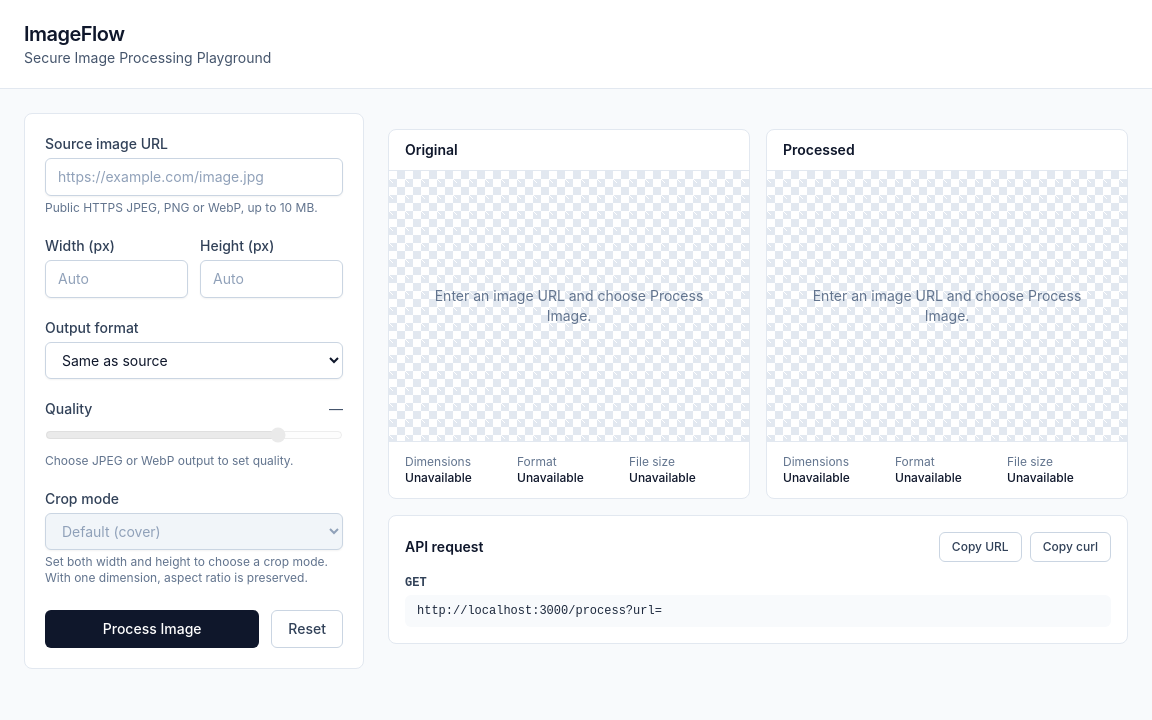
Test: App › requests exactly the displayed URL and shows both images with metadata
The image size is (1152, 720).
In the field labelled "Source image URL": (194, 177) x1=45 y1=158 x2=343 y2=196, type "https://images.example.com/cat.jpg"
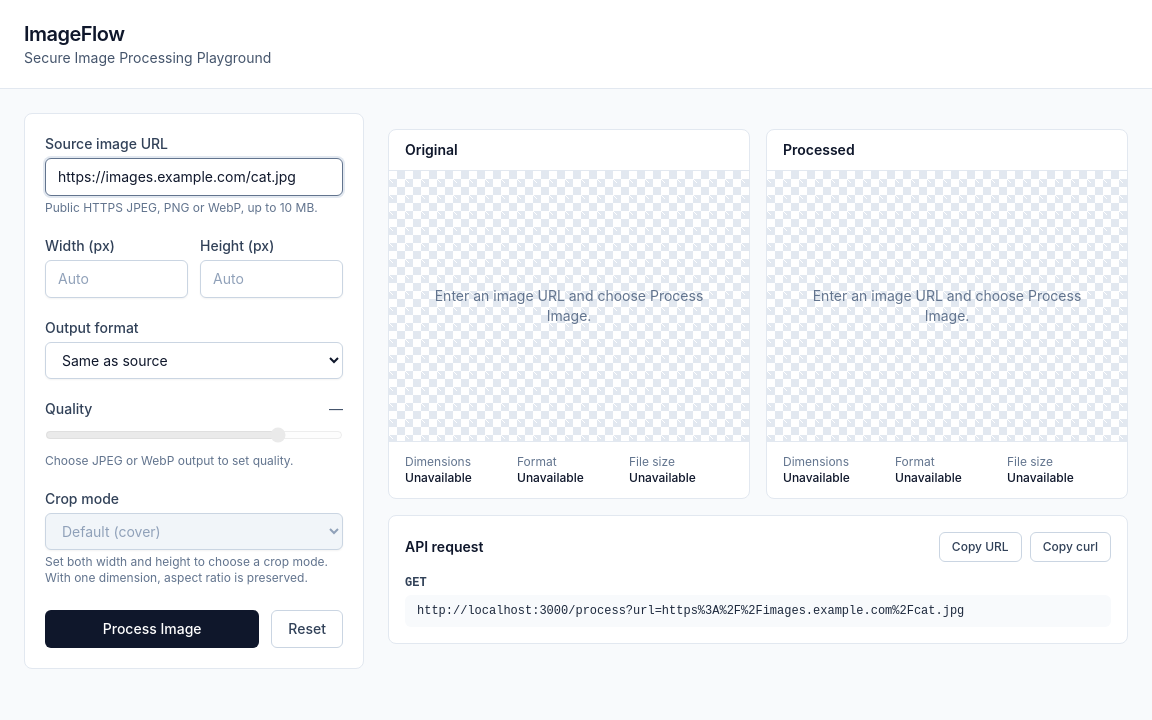
In the number field labelled "Width (px)": (116, 279) x1=45 y1=260 x2=188 y2=298, type "800"
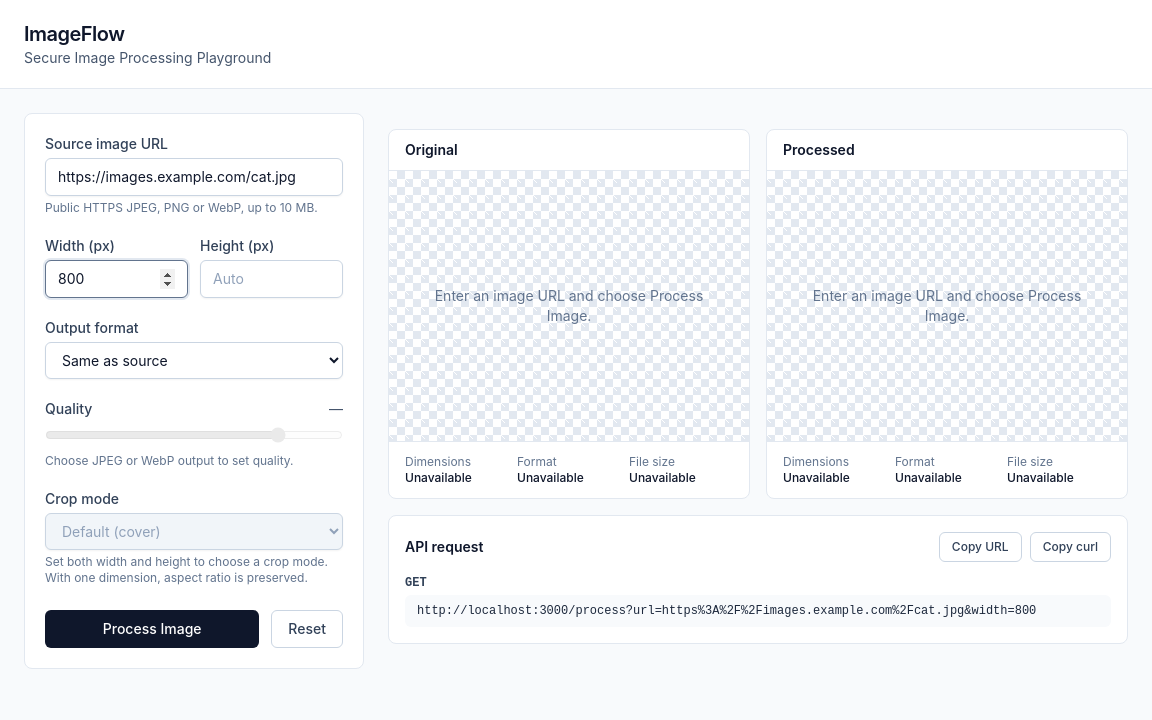
In the number field labelled "Height (px)": (272, 279) x1=200 y1=260 x2=343 y2=298, type "600"
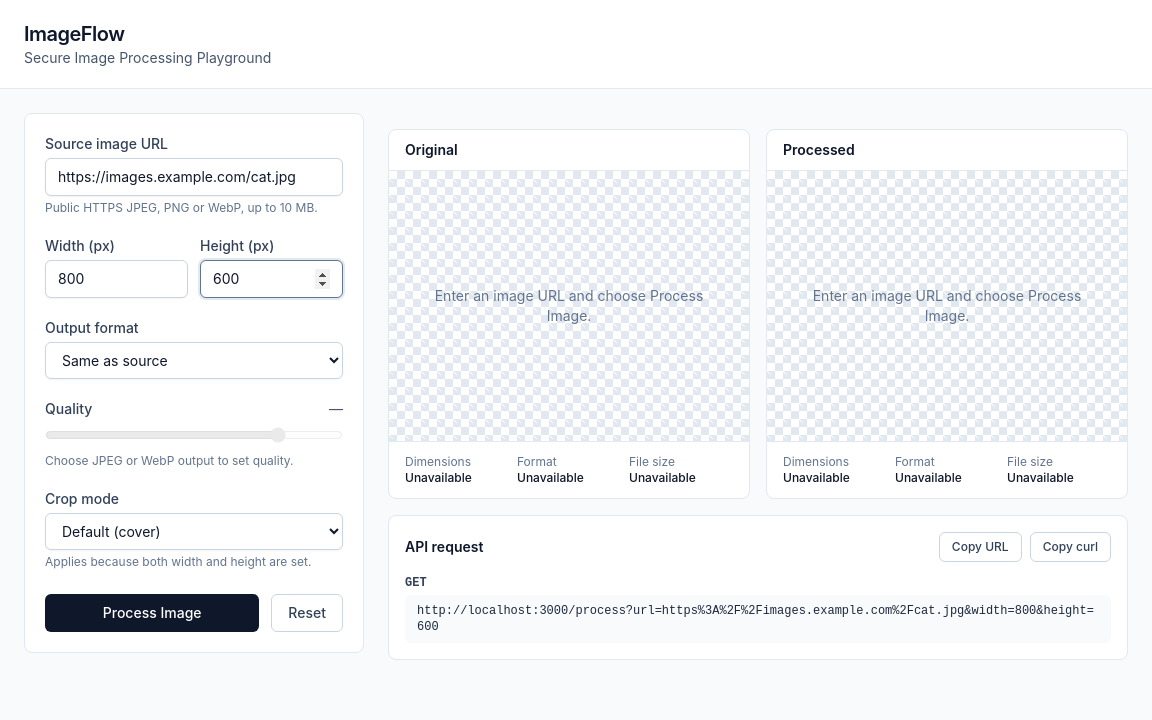
Select "WebP" in the dropdown labelled "Output format": (194, 360) x1=45 y1=342 x2=343 y2=379
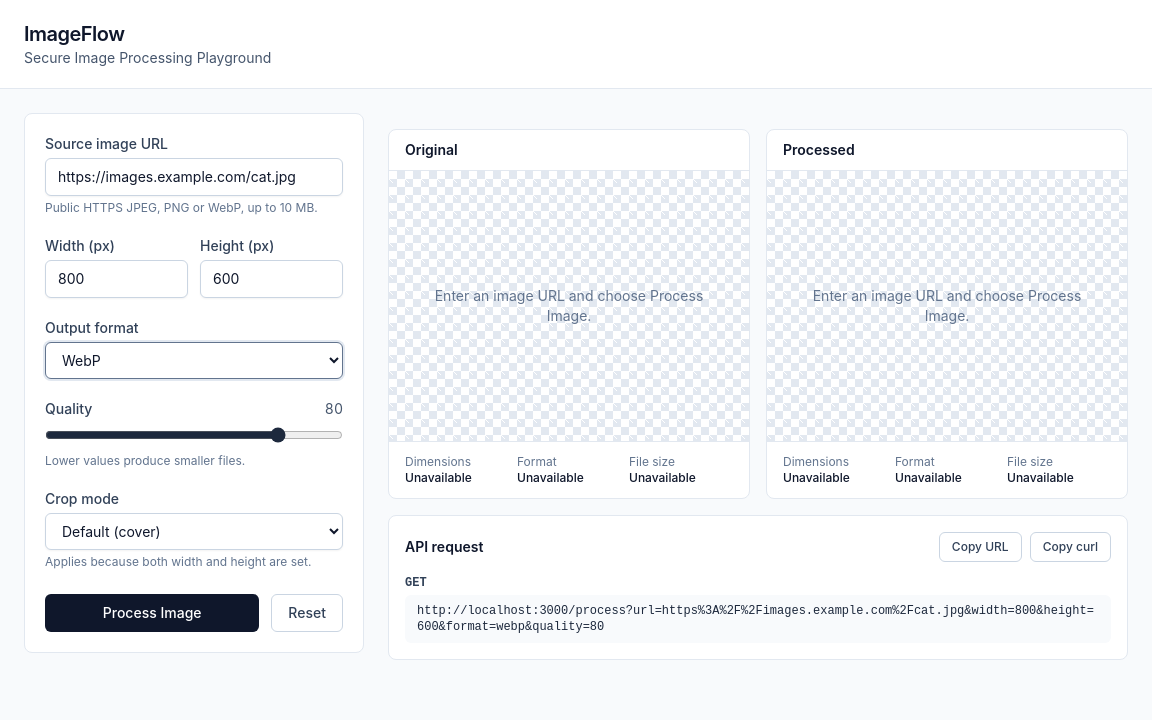
Select "Fill — stretch to box" in the dropdown labelled "Crop mode": (194, 532) x1=45 y1=513 x2=343 y2=550
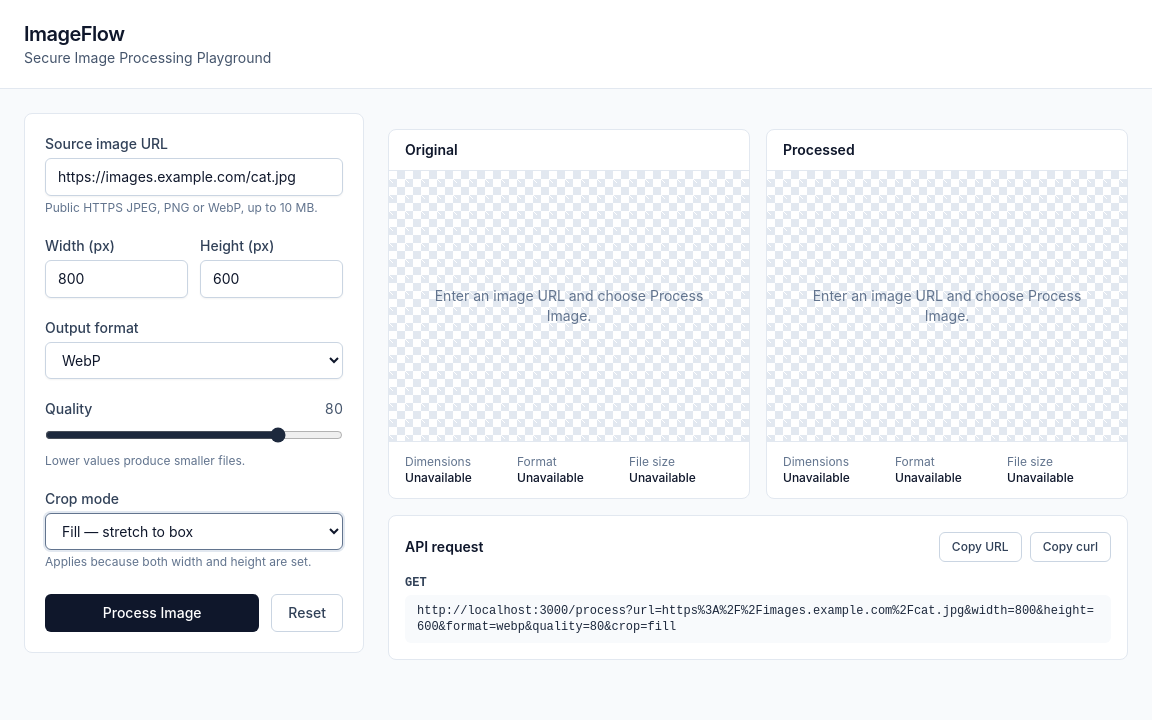
Click the button "Process Image": (152, 613) x1=45 y1=594 x2=259 y2=632
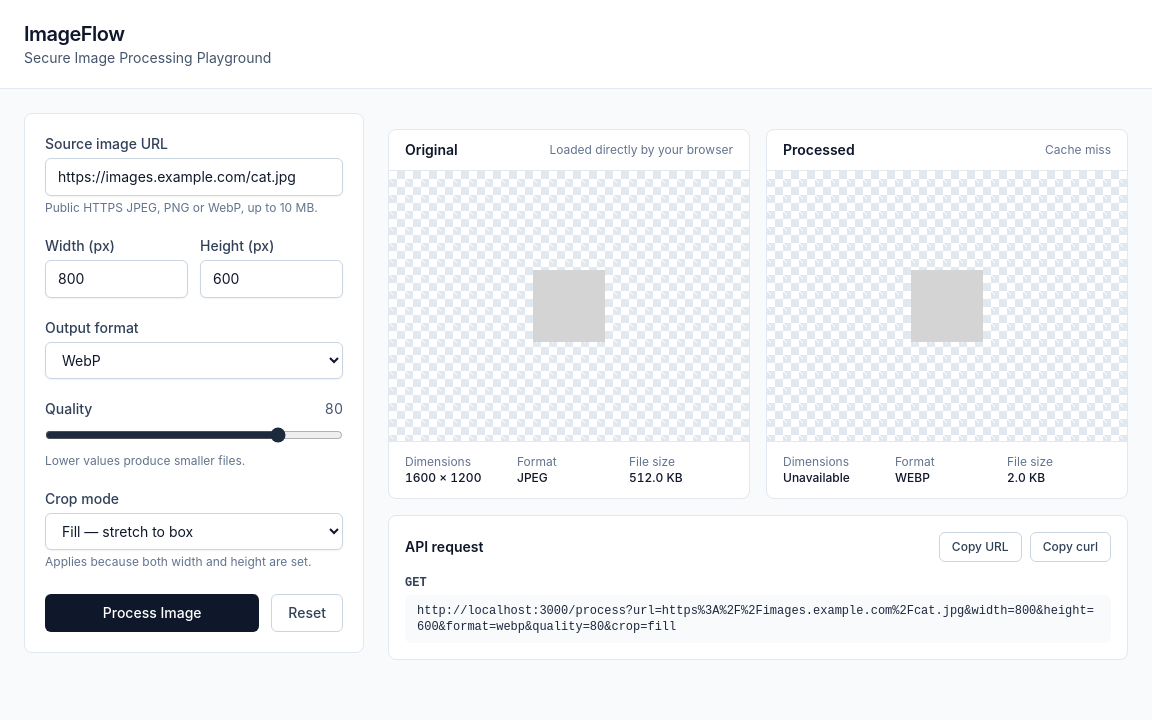
Check: the text with test id "request-url" shows "http://localhost:3000/process?url=https%3A%2F%2Fimages.example.com%2Fcat.jpg&width=800&height=600&format=webp&quality=80&crop=fill", box x1=417 y1=604 x2=1094 y2=634
Check: the text "1600 × 1200" is shown, box x1=405 y1=470 x2=481 y2=485
Check: the text "512.0 KB" is shown, box x1=629 y1=470 x2=683 y2=485
